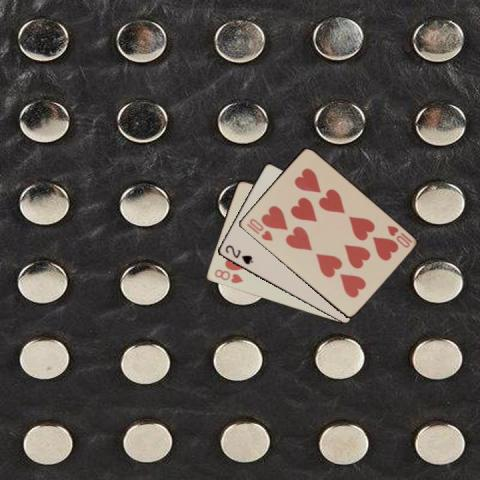10h: (243, 215, 274, 243), (384, 223, 413, 249)
2s: (222, 242, 254, 266)
8h: (211, 266, 244, 285)
